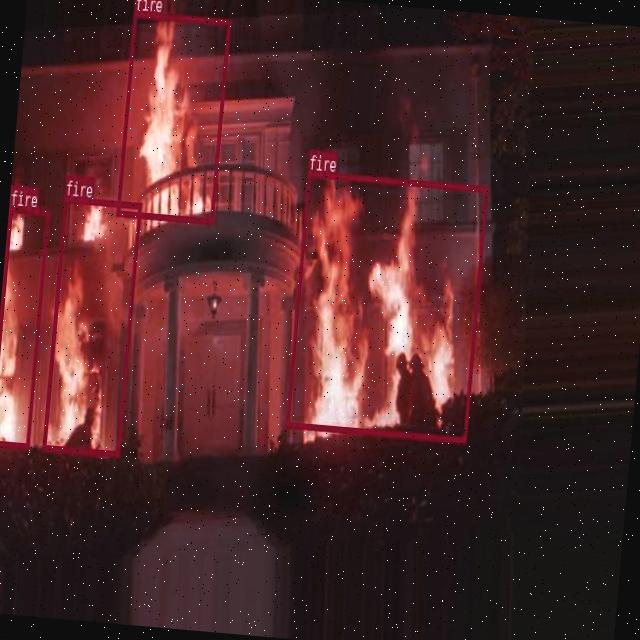fire: (284, 169, 488, 442), (41, 195, 141, 456), (116, 10, 230, 224), (0, 204, 49, 447)
